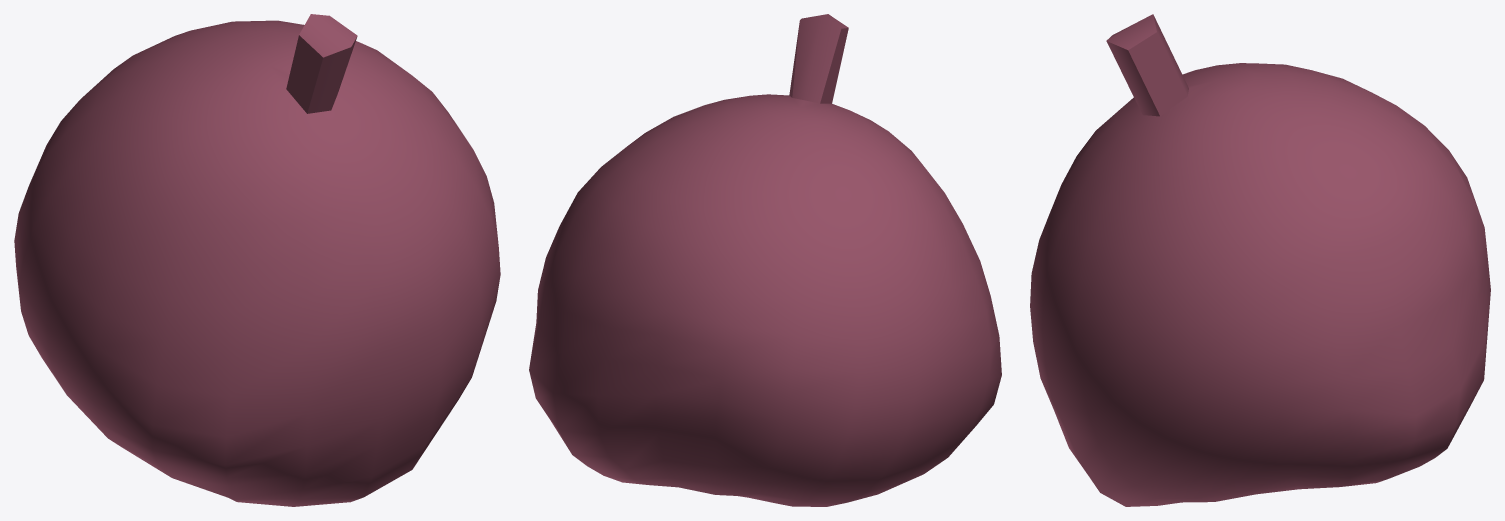
Rendered from Fruit.fbx.
The picture shows the model from 3 angles, left to right: view 1: azimuth 30°, elevation 25°; view 2: azimuth 150°, elevation 25°; view 3: azimuth 270°, elevation 25°; orthographic projection. The views are drawn at different scales.
Visible parts, largest first — view 1: pSphere4; view 2: pSphere4; view 3: pSphere4.
Boxes of the visible parts, x1,y1,x2,y2 form: pSphere4: [14, 14, 500, 506]; pSphere4: [529, 14, 1001, 506]; pSphere4: [1030, 14, 1490, 506].
Size of the model in its own units: 12.3 by 13.44 by 11.89.
